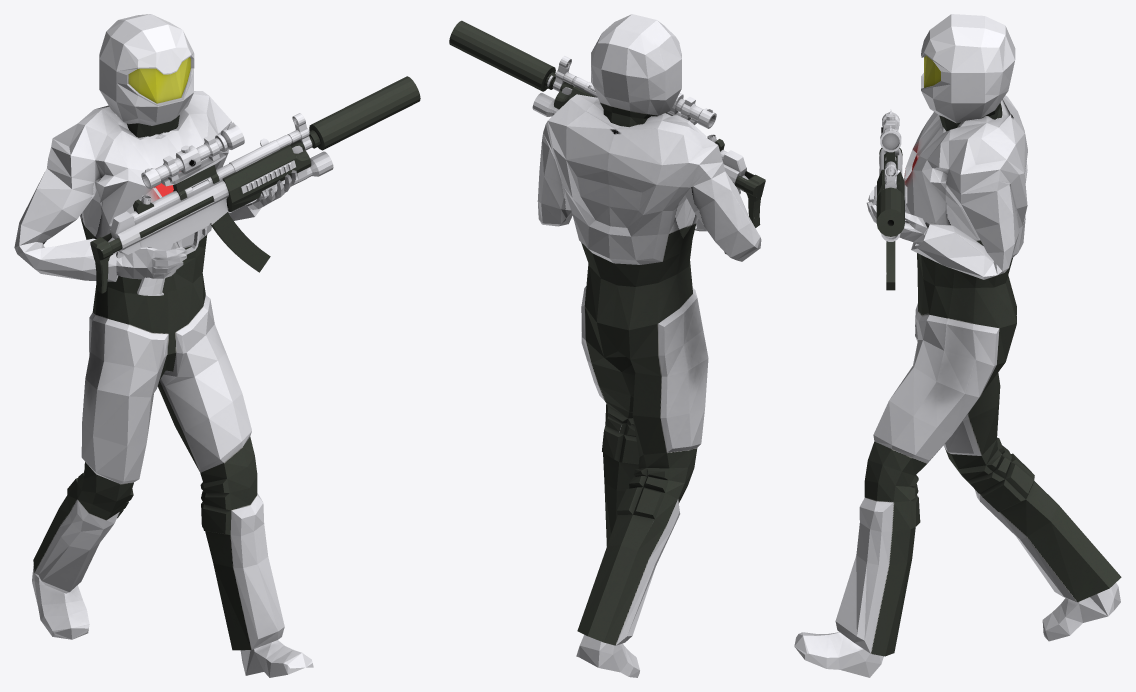
Rendered from walk12.obj.
3 renders of one model, left to right at view 1: azimuth 30°, elevation 25°; view 2: azimuth 150°, elevation 25°; view 3: azimuth 270°, elevation 25°, orthographic. The views are drawn at different scales.
Parts seen in each view (by area): view 1: Male001Skin_001, Object001; view 2: Male001Skin_001, Object001; view 3: Male001Skin_001, Object001.
Part boxes in pixels (x1=…): Male001Skin_001: x1=14, y1=14, x2=313, y2=677; Object001: x1=90, y1=76, x2=420, y2=295; Male001Skin_001: x1=537, y1=14, x2=761, y2=677; Object001: x1=449, y1=20, x2=765, y2=231; Male001Skin_001: x1=794, y1=14, x2=1121, y2=677; Object001: x1=874, y1=109, x2=907, y2=290.
Size of the model in its own units: 1111 by 1892 by 890.
Materials: 1 (1 with a texture image).
